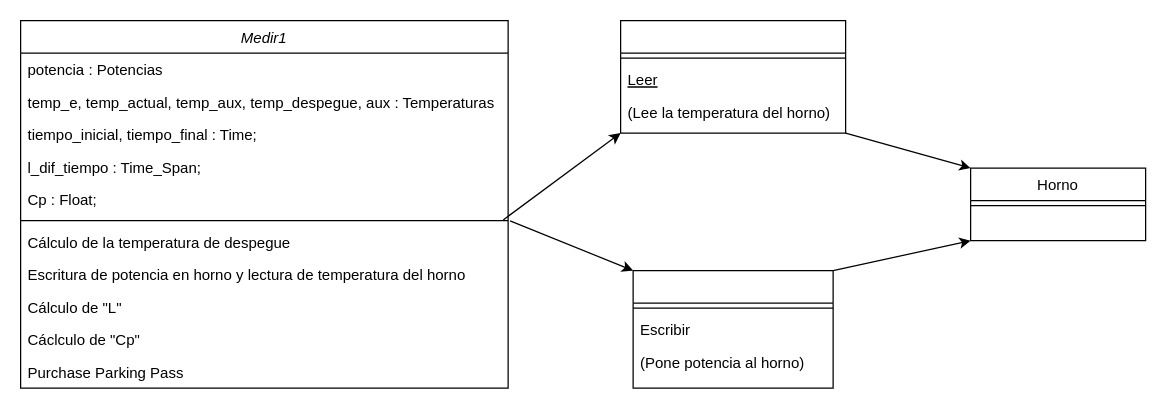
Some shapes in this 1166 by 409 pixel diagram are drawn without their labels. Each missing label, with the box of its shape:
Calefactor: (632, 269, 833, 388)
Sensor: (619, 19, 846, 133)
